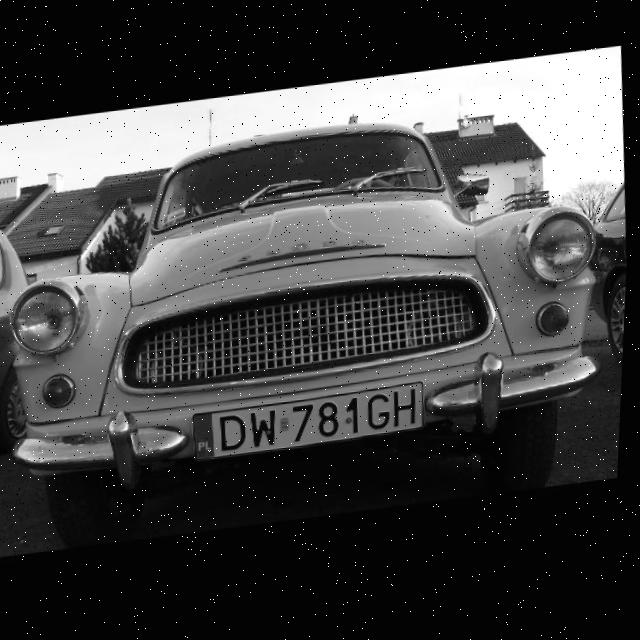license-plates: (193, 383, 424, 460)
